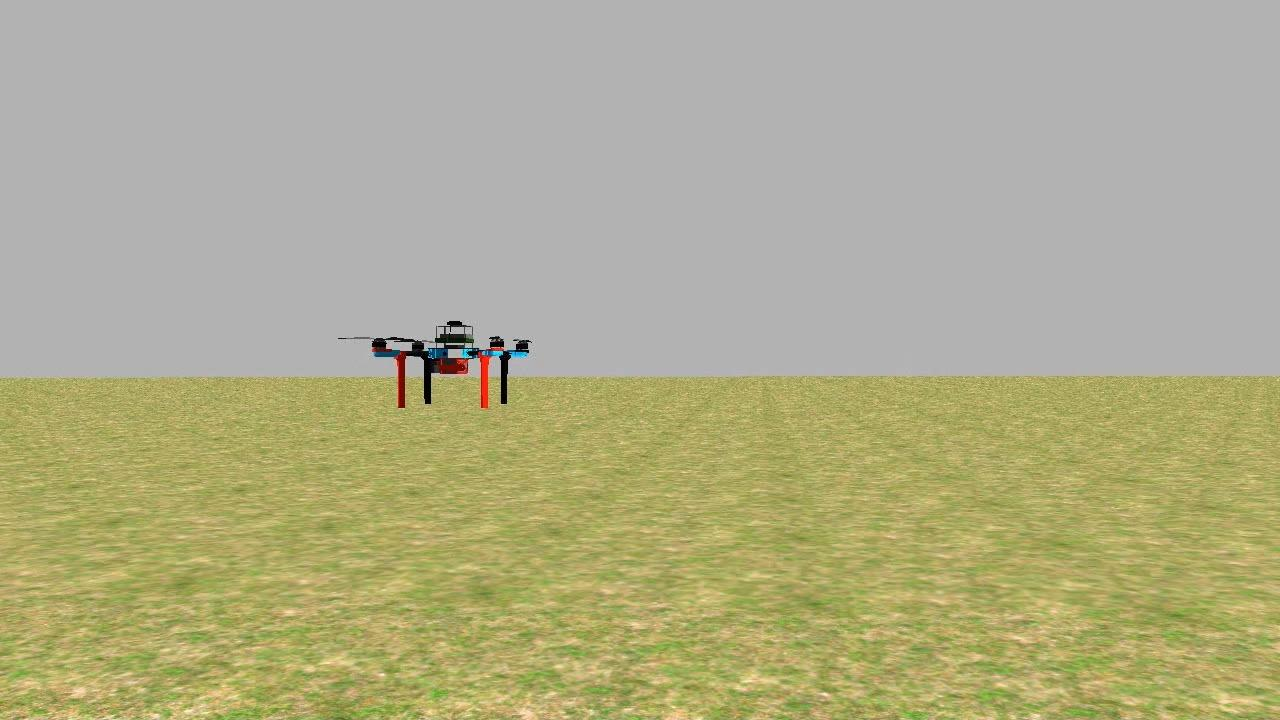UAV: (358, 299, 534, 428)
